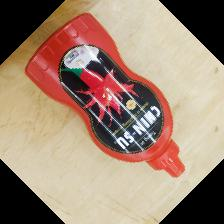Chinsu: (22, 12, 186, 181)
